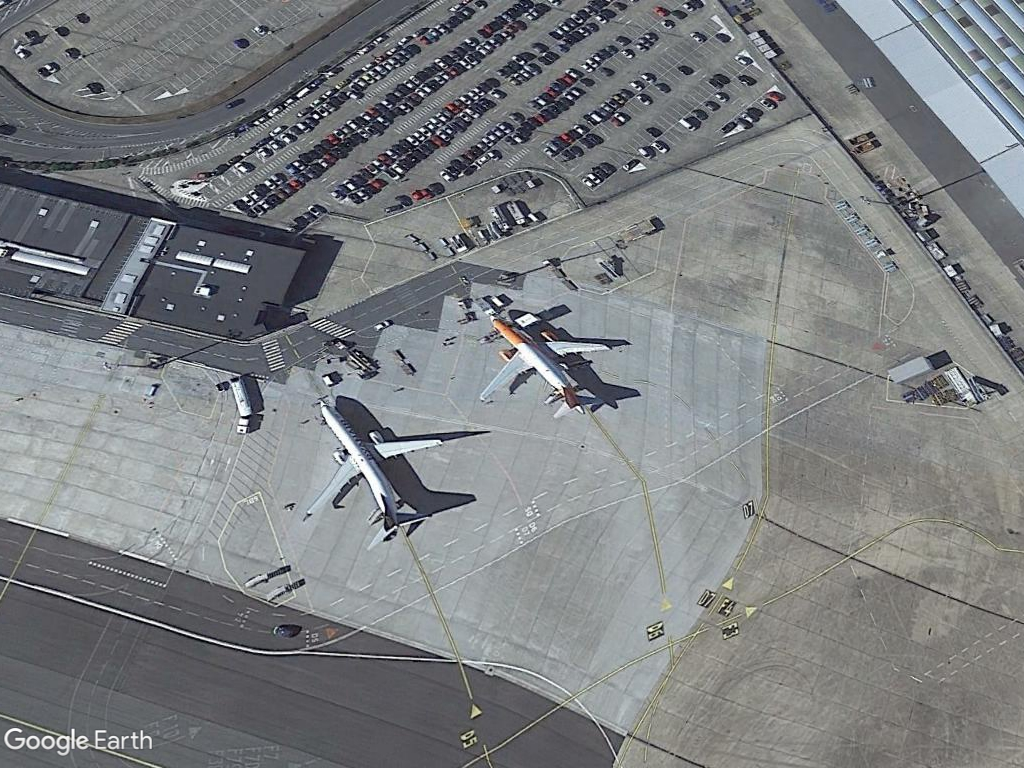airliner: (291, 399, 448, 552), (471, 309, 616, 422)
